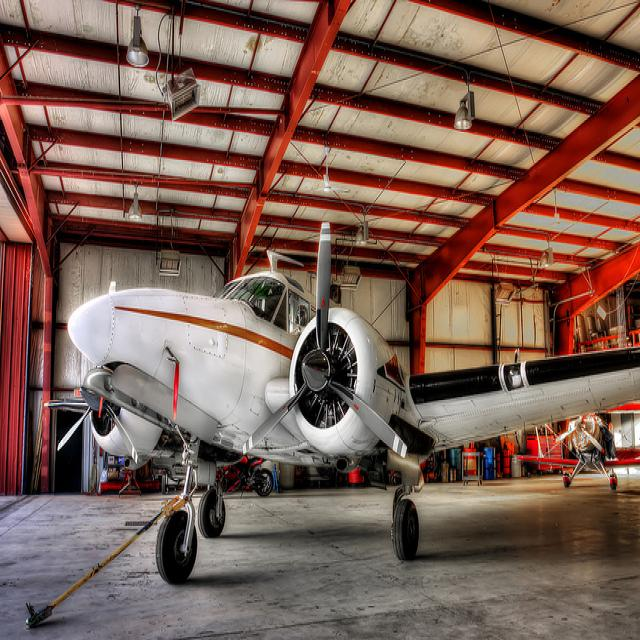motor: (223, 458, 271, 500)
